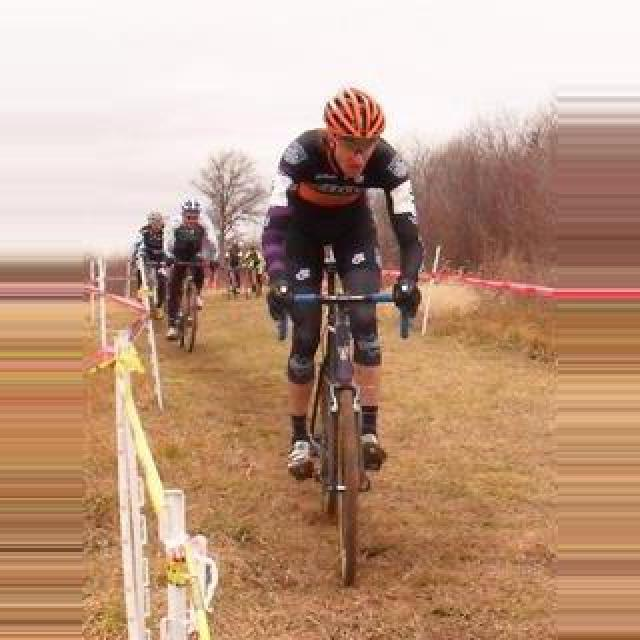MC-Bike: (260, 86, 422, 478), (162, 200, 220, 334), (130, 210, 172, 312)
Person: (302, 290, 388, 586), (168, 266, 206, 354)
